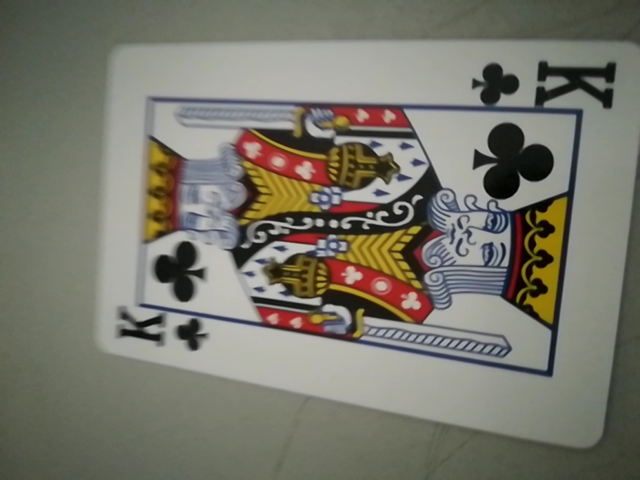mh k: (469, 50, 617, 116), (109, 303, 212, 358)
